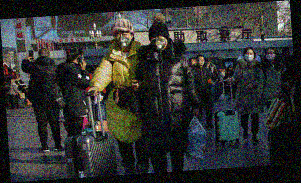with_mask: (114, 32, 133, 49), (151, 34, 168, 51), (243, 51, 255, 62), (265, 50, 276, 61)
without_mask: (197, 58, 206, 67)
